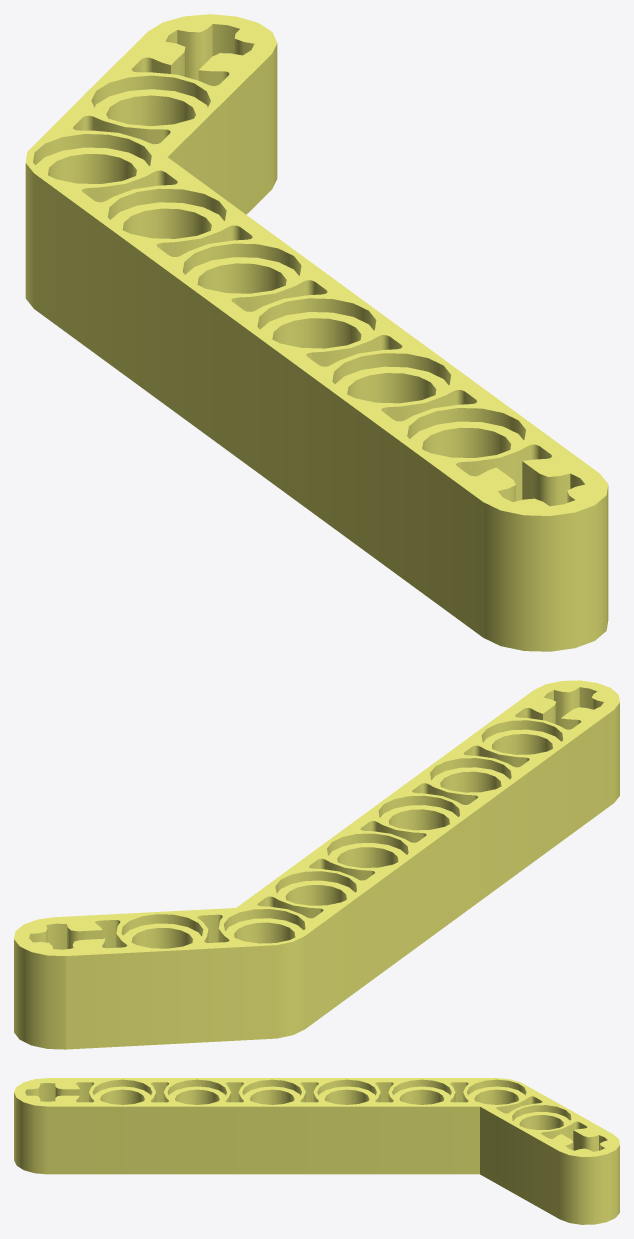
The picture shows the model from 3 angles, top to bottom: view 1: azimuth 30°, elevation 25°; view 2: azimuth 150°, elevation 25°; view 3: azimuth 270°, elevation 25°; orthographic projection. The views are drawn at different scales.
Visible parts, largest first — view 1: 32271.dat; view 2: 32271.dat; view 3: 32271.dat.
Boxes of the visible parts, x1,y1,x2,y2 form: 32271.dat: (25, 14, 608, 651); 32271.dat: (14, 680, 619, 1049); 32271.dat: (14, 1078, 619, 1224).
Bounding box in the file's own units: 0.02 × 0.008 × 0.0648.
